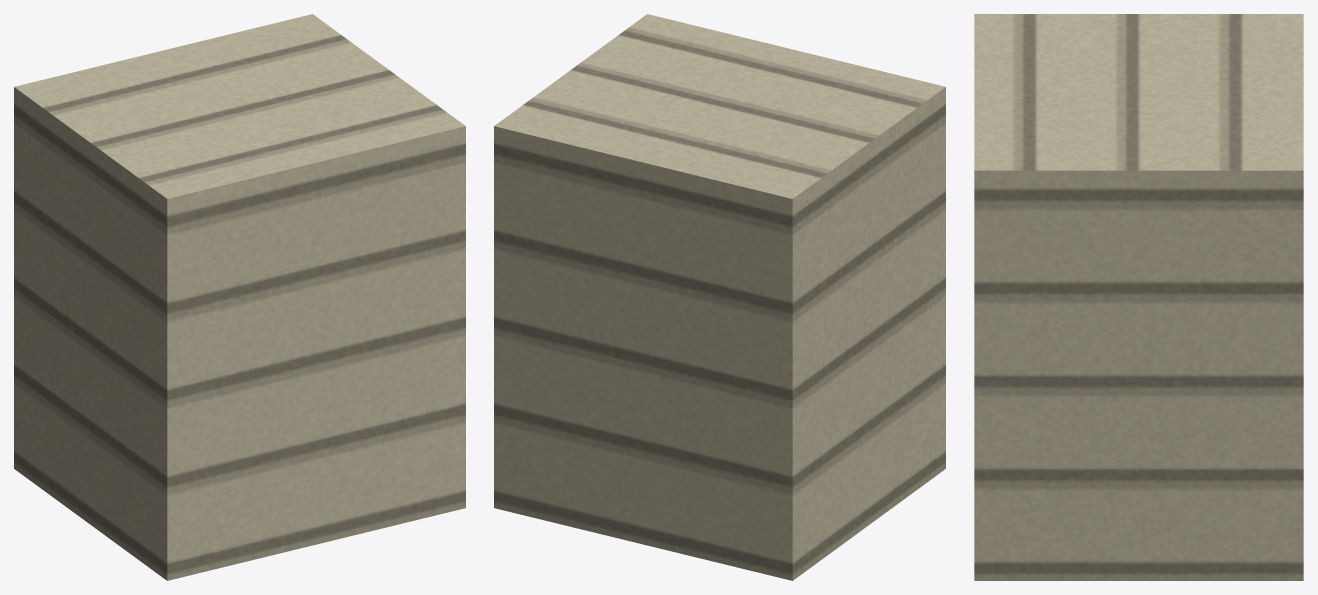
The model's file is nightstand.glb.
The picture shows the model from 3 angles, left to right: view 1: azimuth 30°, elevation 25°; view 2: azimuth 150°, elevation 25°; view 3: azimuth 270°, elevation 25°; orthographic projection. The views are drawn at different scales.
Visible parts, largest first — view 1: nightstand-col; view 2: nightstand-col; view 3: nightstand-col.
Boxes of the visible parts, <box> form: nightstand-col: <box>14,14,465,580</box>; nightstand-col: <box>494,14,945,580</box>; nightstand-col: <box>974,14,1303,580</box>.
Size of the model in its own units: 0.45 by 0.55 by 0.4.
1 material, 1 textured.
